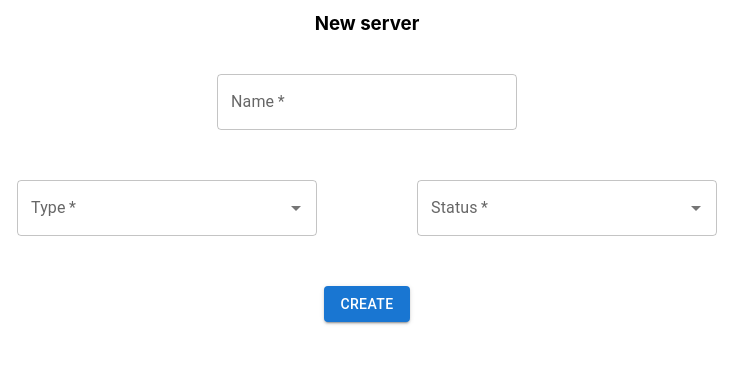
Scenario: ServerDetail component Create tests › Servers detail Create With 409 Name Already Exist
In the field labelled "Name": (367, 102) left=217, top=74, right=517, bottom=130, type "nameTaken"
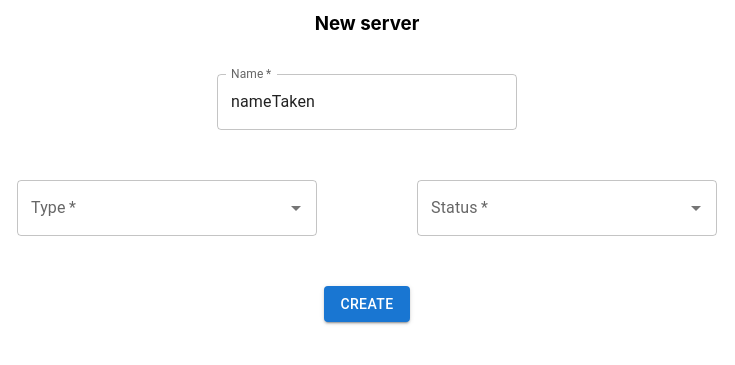
In the dropdown labelled "Status": (539, 208) left=426, top=189, right=652, bottom=227, type "running"
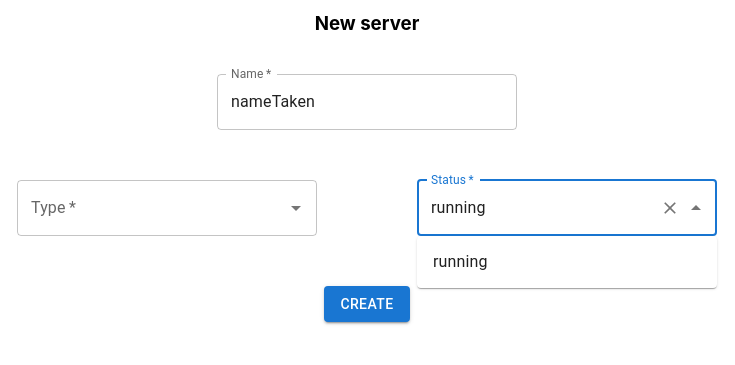
Click the option "running": (460, 262) left=433, top=252, right=488, bottom=271
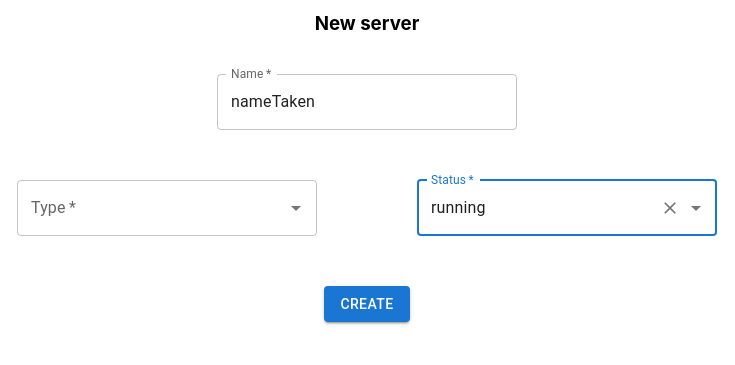
In the dropdown labelled "Type": (139, 208) left=26, top=189, right=252, bottom=227, type "medium"
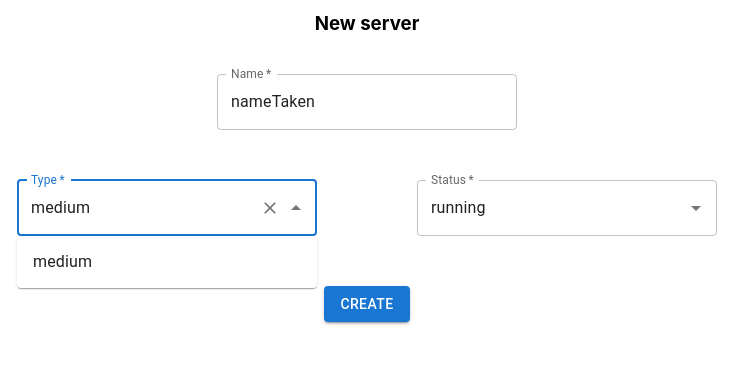
Click the option "medium": (63, 262) left=33, top=252, right=92, bottom=271
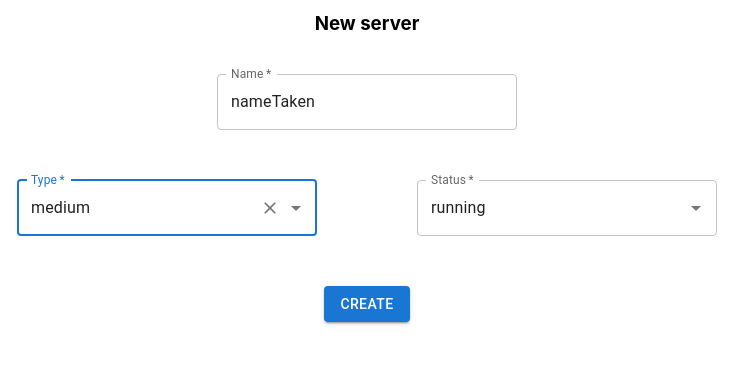
Click the link "Create": (367, 304) left=324, top=286, right=410, bottom=322
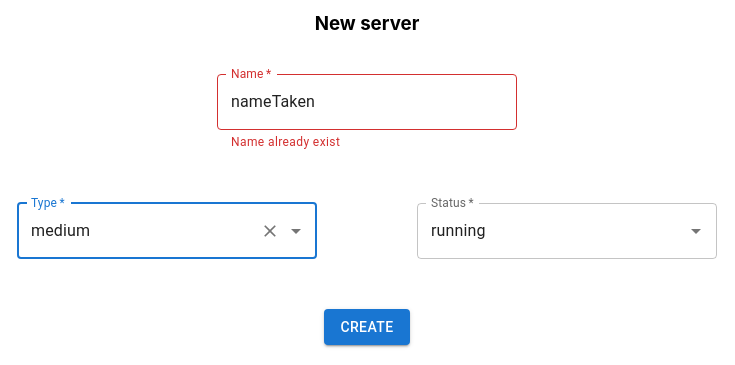
expect the text "Name already exist" is shown: met, box left=231, top=135, right=340, bottom=149
